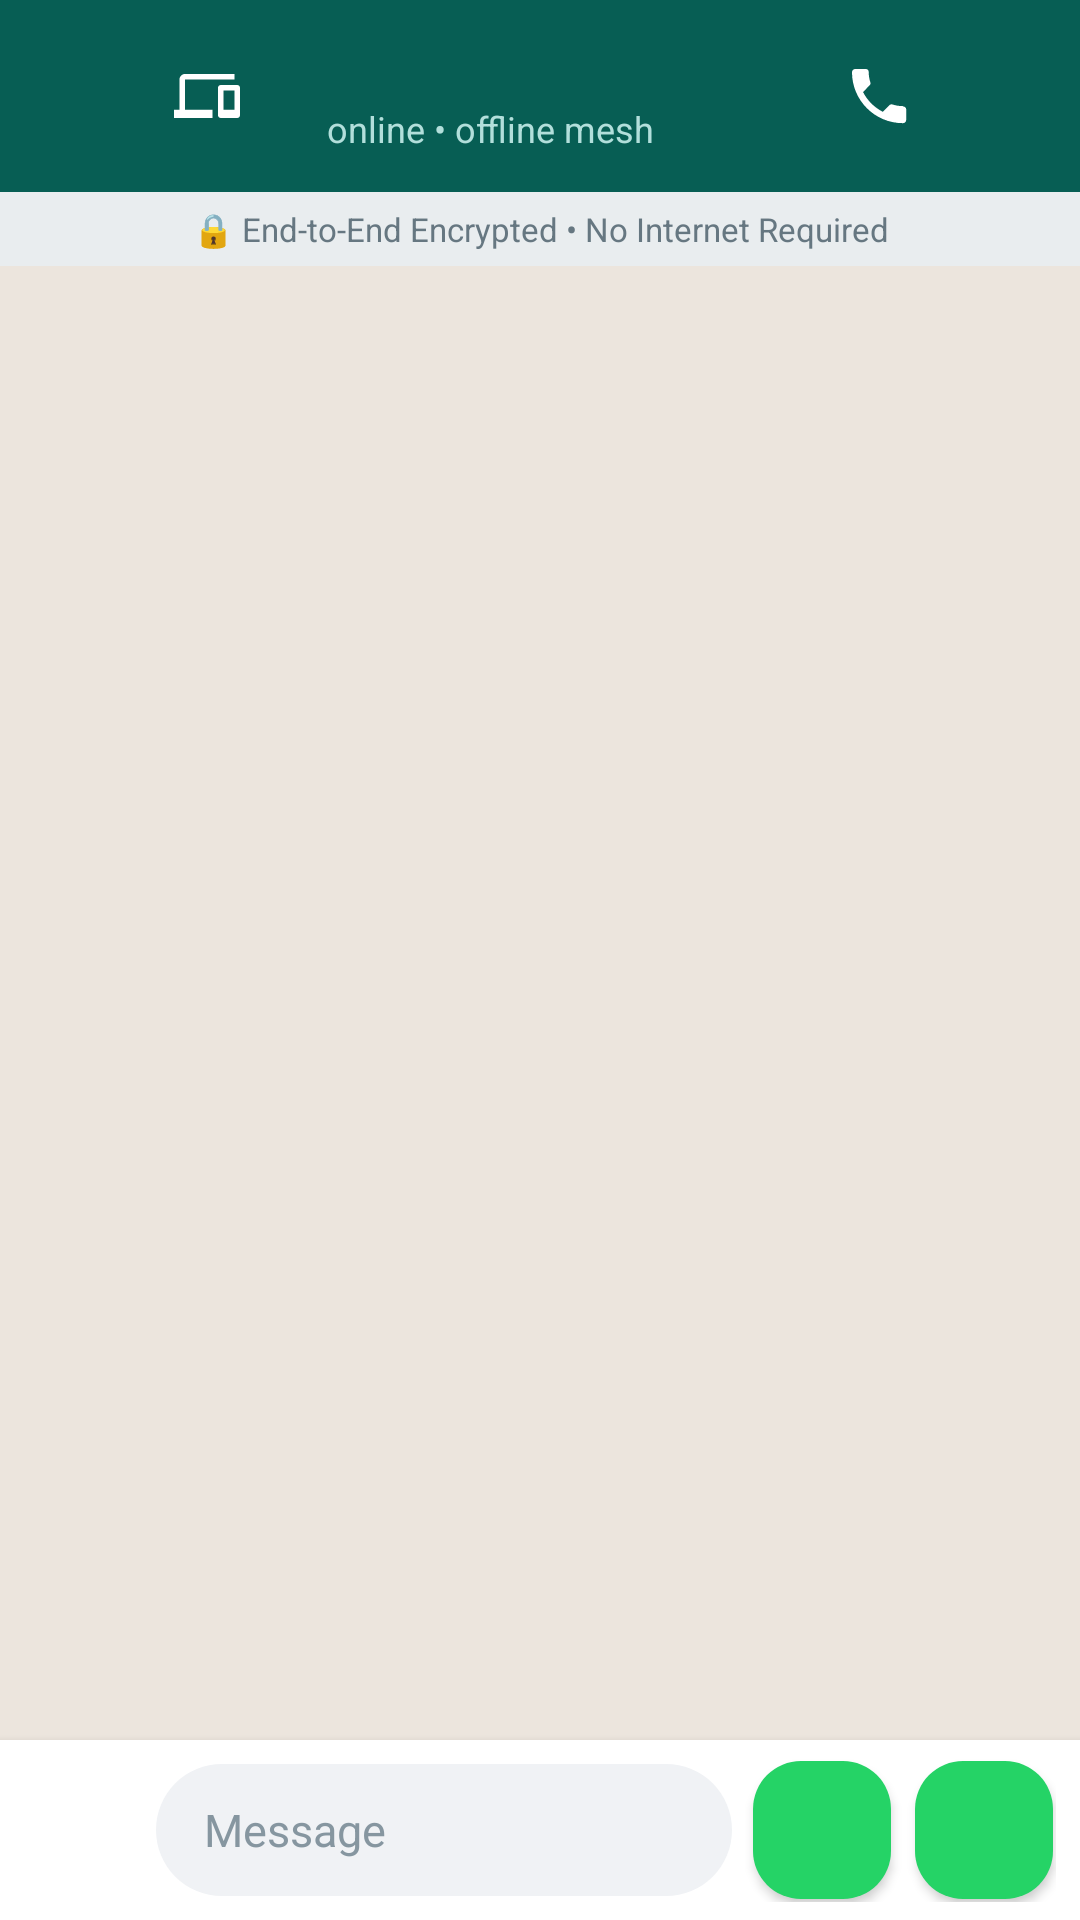

Where icons sit on this 1080 x 1920 app screen, as (x1, y1, x2, y2):
Audio Call: (852, 69, 907, 124)
devices: (174, 74, 240, 118)
